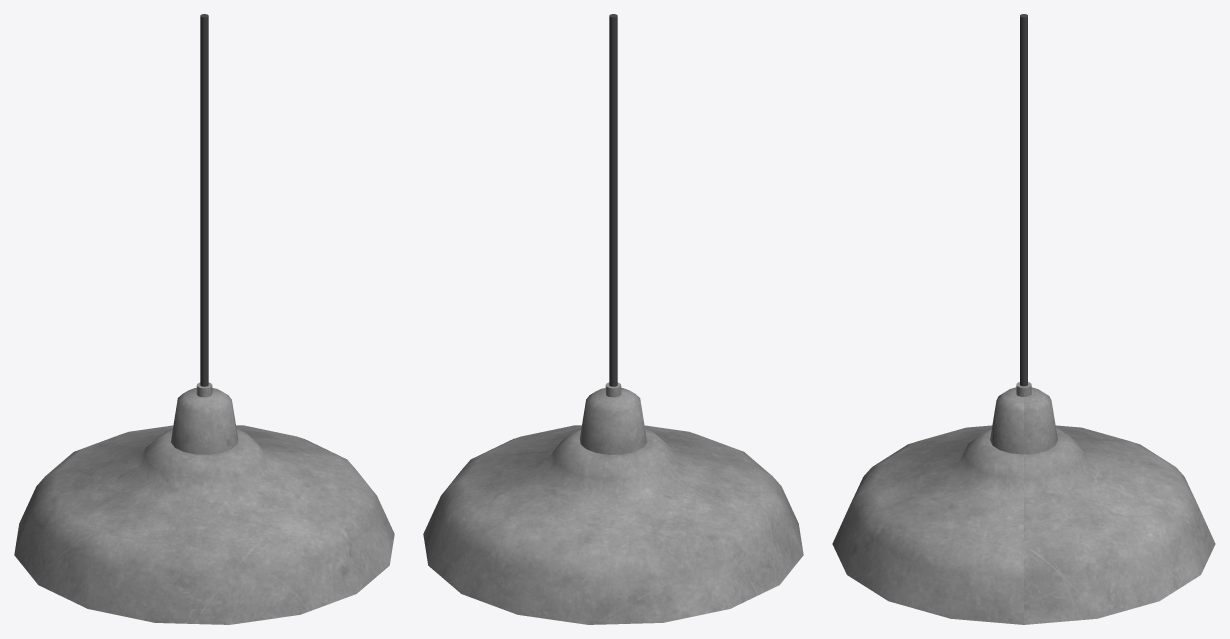
Rendered from SM_CeilingLamp.fbx.
3 renders of one model, left to right at view 1: azimuth 30°, elevation 25°; view 2: azimuth 150°, elevation 25°; view 3: azimuth 270°, elevation 25°, orthographic.
Visible parts, largest first — view 1: SM_CeilingLamp; view 2: SM_CeilingLamp; view 3: SM_CeilingLamp.
Part boxes in pixels (x1=…): SM_CeilingLamp: x1=14, y1=14, x2=394, y2=624; SM_CeilingLamp: x1=423, y1=14, x2=803, y2=624; SM_CeilingLamp: x1=832, y1=14, x2=1215, y2=624.
Size of the model in its own units: 52.33 by 79.65 by 52.33.
